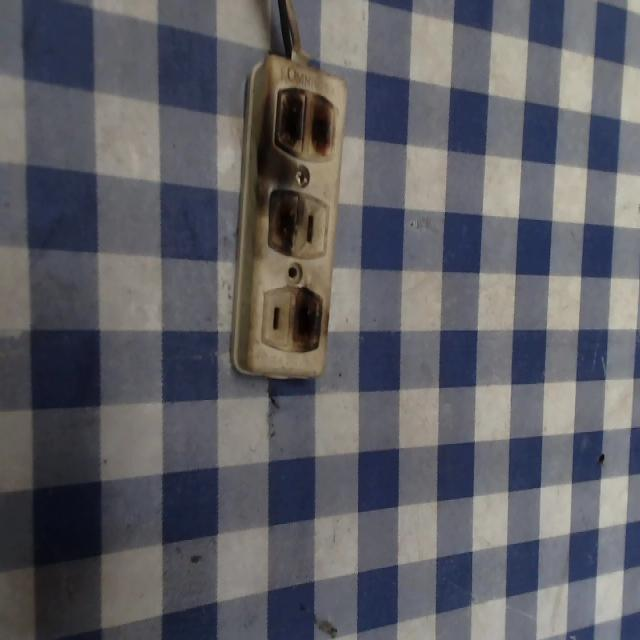-: (271, 81, 337, 163), (262, 187, 304, 256), (288, 282, 326, 354)
